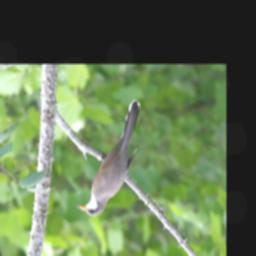Cuckoo: (76, 99, 143, 217)
